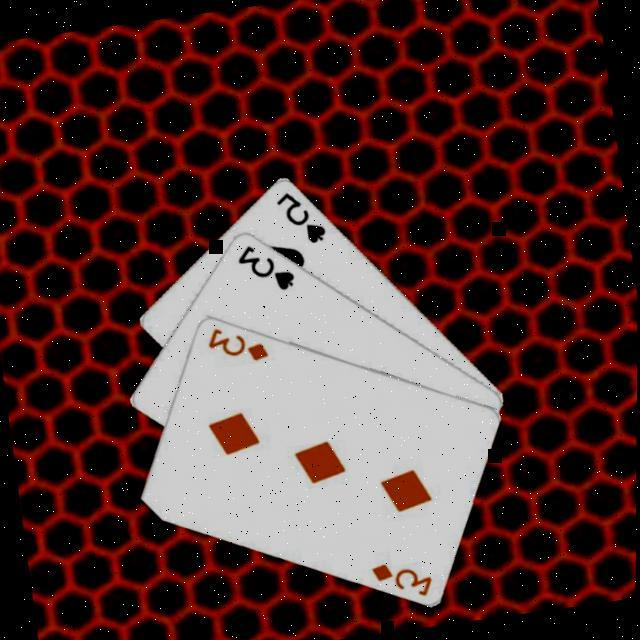3D: (200, 316, 270, 369), (366, 552, 436, 605)
3S: (230, 235, 298, 298)
5S: (270, 182, 330, 250)
